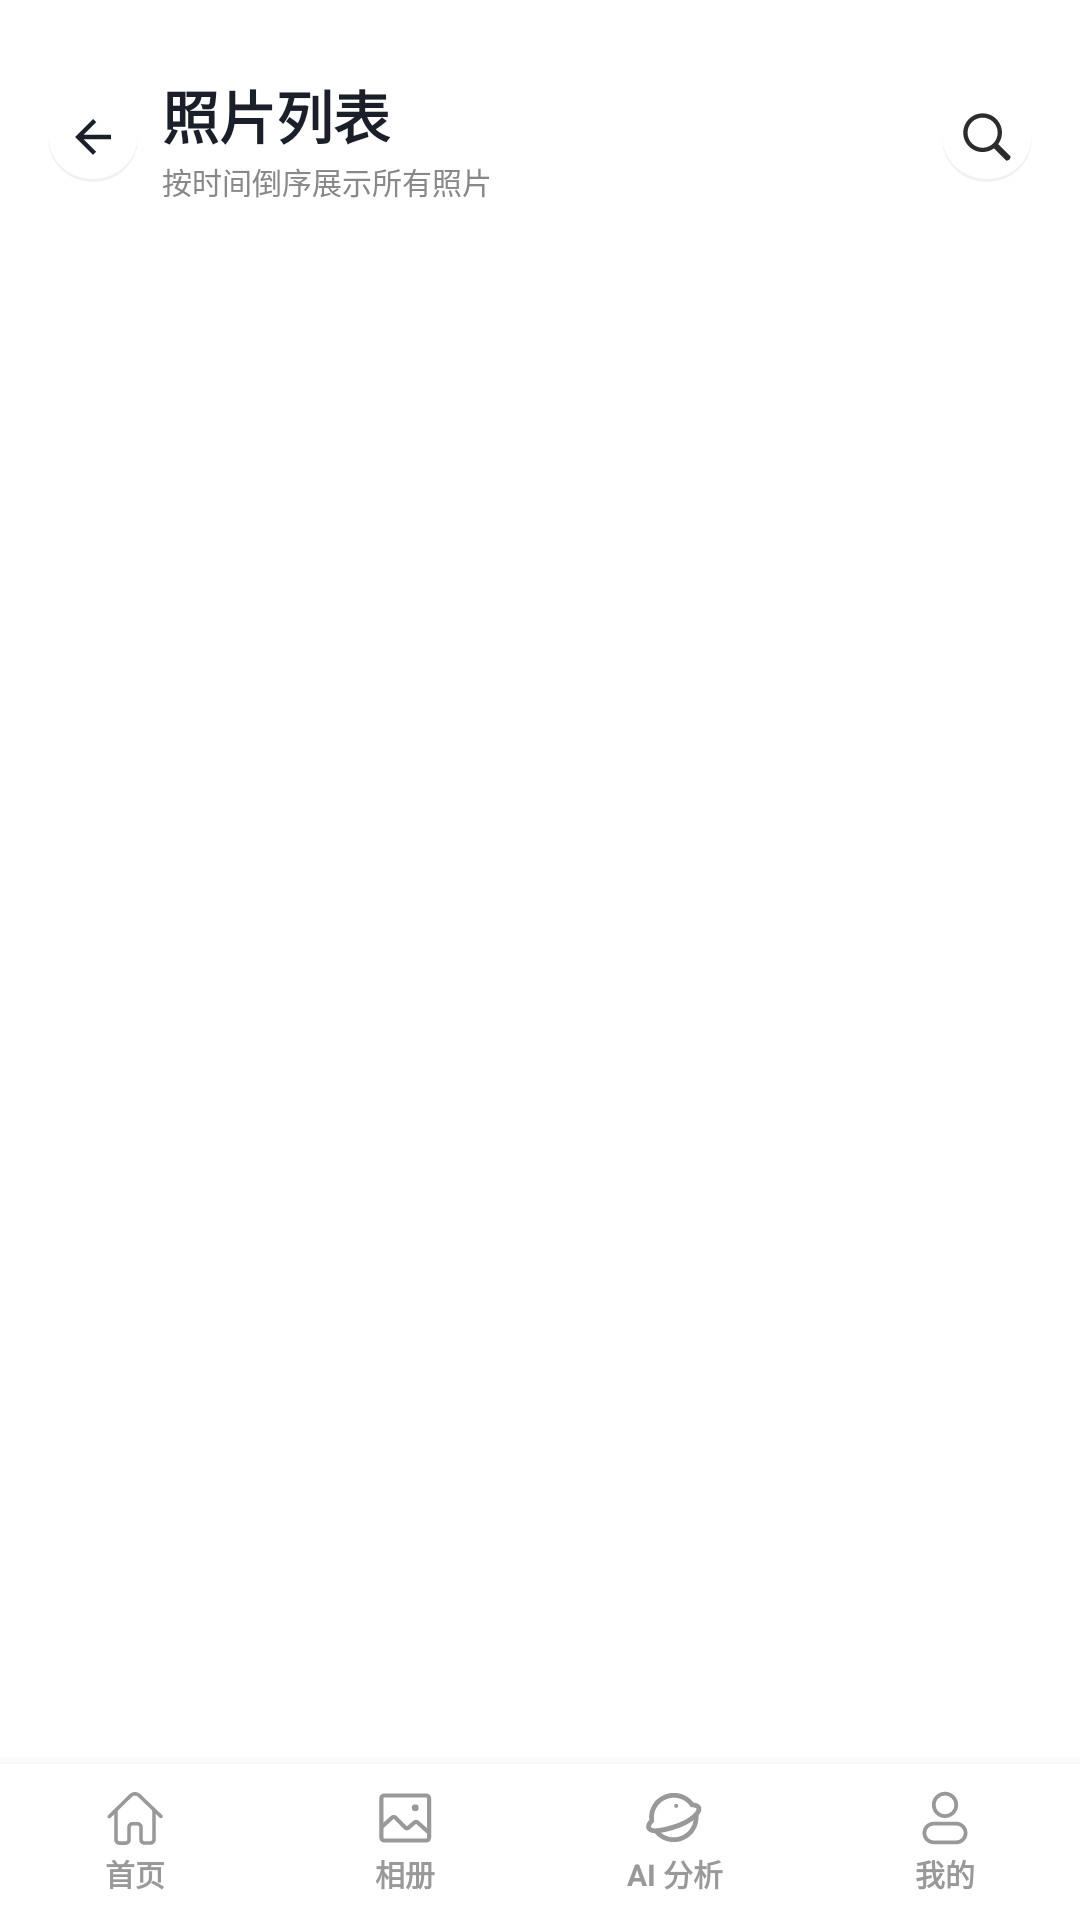

Screen size 1080*1920. Icon name, then its box in pixels as (x1, y1, x2, y2):
AI 发现: (646, 1793, 702, 1842)
搜索: (963, 113, 1011, 161)
返回: (75, 119, 111, 155)
